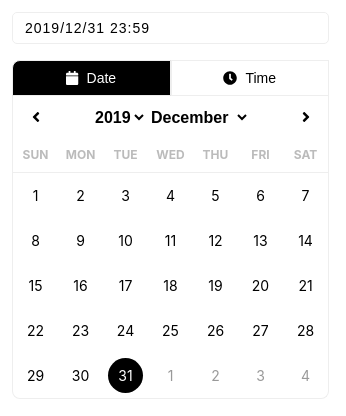
Scenario: App’s Methods › onInputChange() & onInputBlur() › invalid text: should update state.text by state.selectedMoment instead of e.target.value
Replace the text in the field with "2019/12/32 23:59". click: (170, 28)
box: [12, 12, 329, 44]
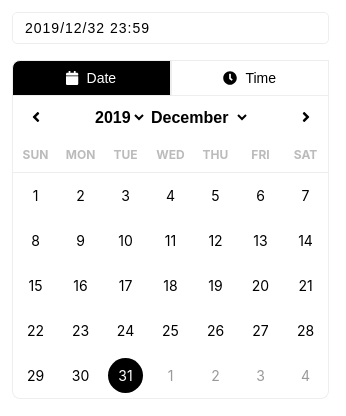
Press Enter in the field, box [12, 12, 329, 44]
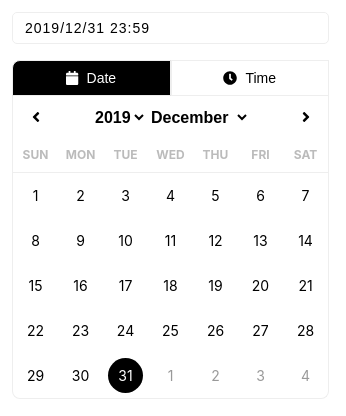
Now the field holds "2019/12/31 23:59", box [12, 12, 329, 44]
